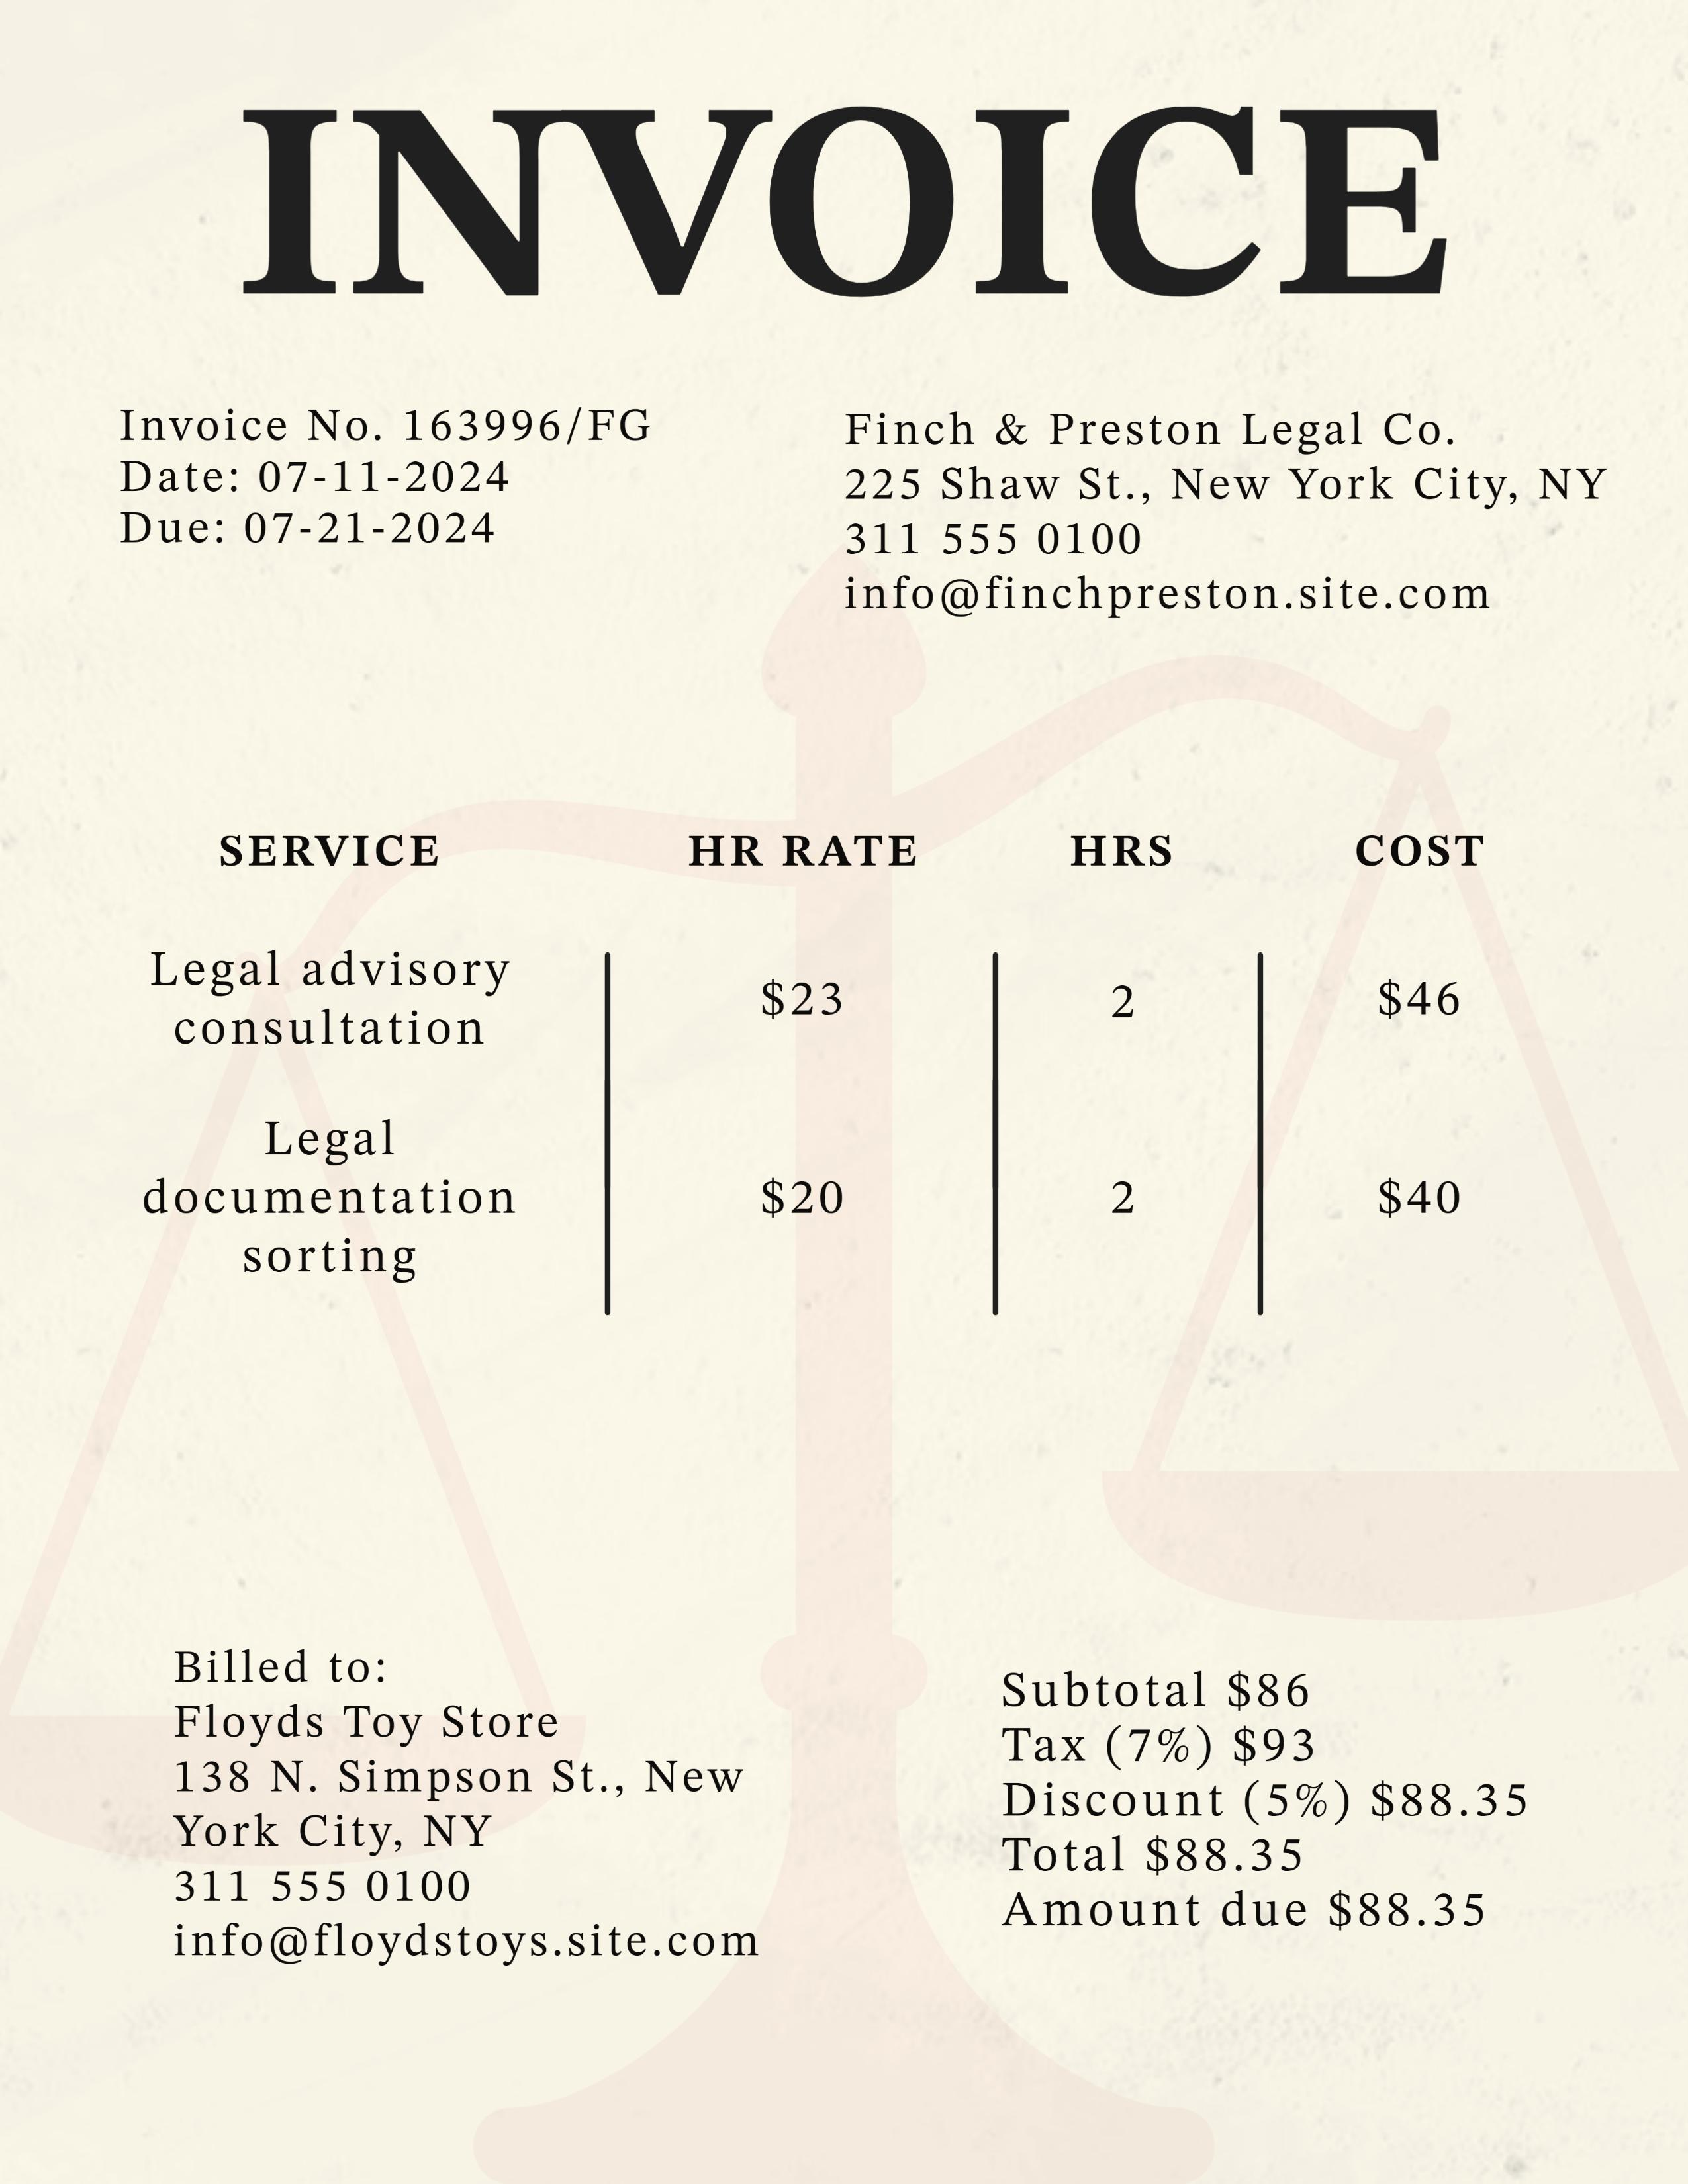ROI: (141, 823, 1538, 1328), (158, 1634, 799, 1979), (836, 401, 1621, 625), (975, 1665, 1535, 1940), (97, 388, 664, 573)
